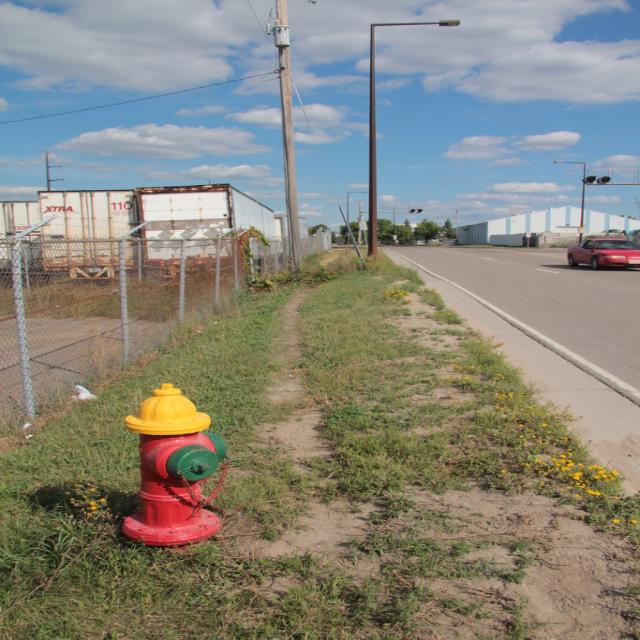fire_hydrant: (122, 384, 222, 544)
